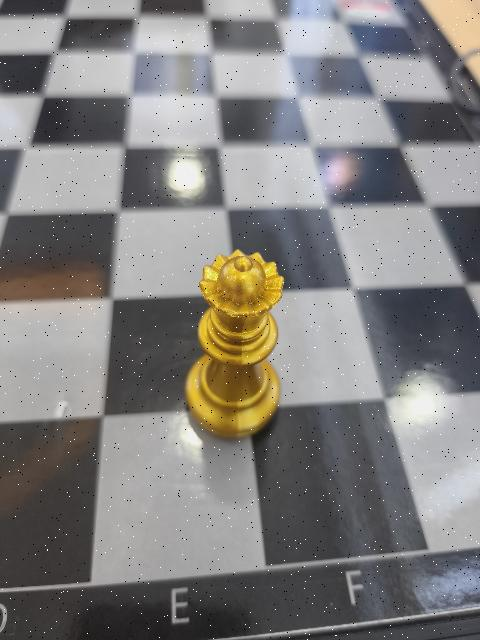black_queen: (187, 249, 286, 439)
